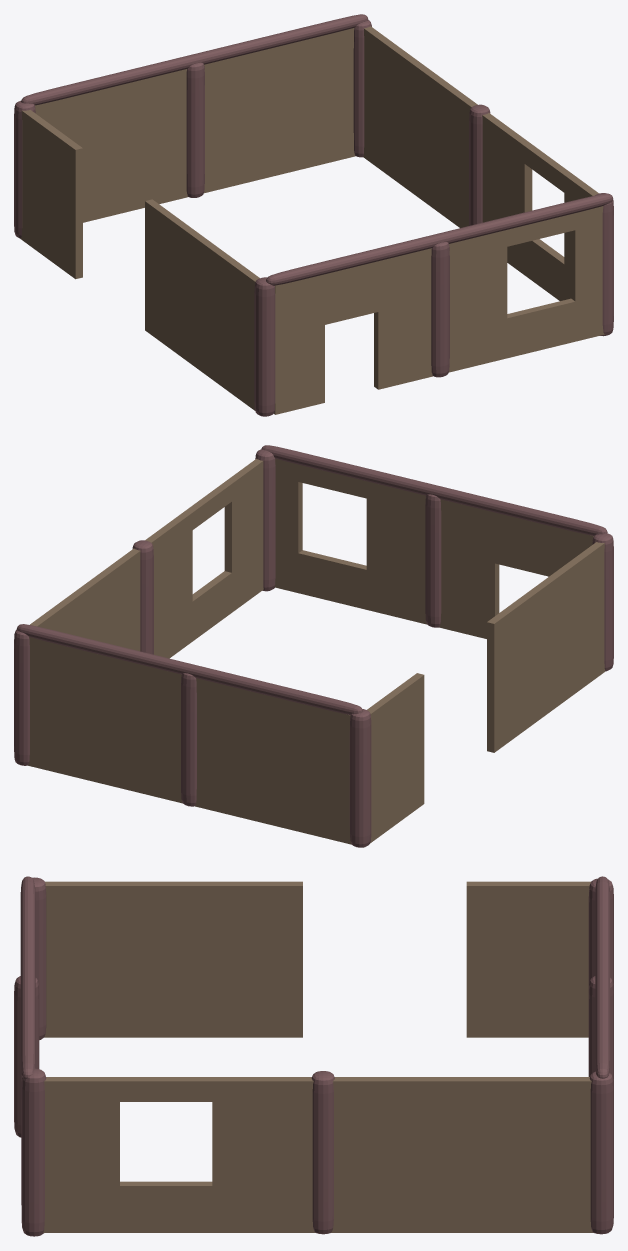
File: wall_window.fbx
The picture shows the model from 3 angles, top to bottom: view 1: azimuth 30°, elevation 25°; view 2: azimuth 150°, elevation 25°; view 3: azimuth 270°, elevation 25°; orthographic projection. The views are drawn at different scales.
Parts seen in each view (by area): view 1: wall; view 2: wall; view 3: wall.
Boxes of the visible parts, <box> form: wall: <box>14,14,613,416</box>; wall: <box>14,445,613,847</box>; wall: <box>14,876,613,1236</box>.
Bounding box in the file's own units: 1044 × 398 × 1297.
